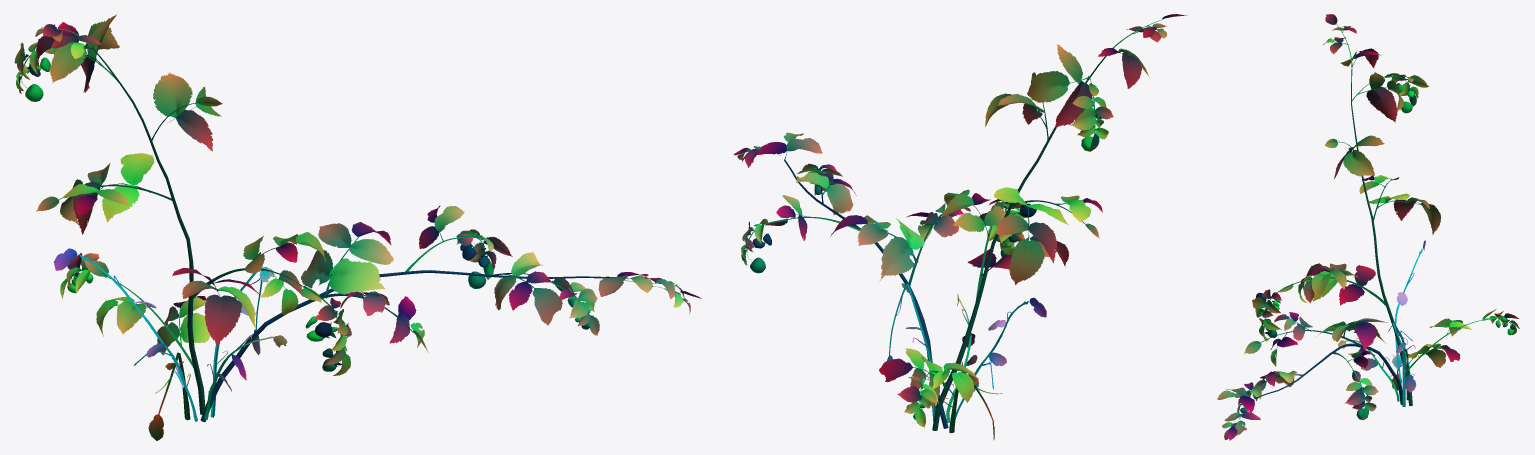
The model's file is Raspberry_wf0oefeja_Raw_wf0oefeja_VarG_LOD0.fbx.
3 views of the same model, side by side, from view 1: azimuth 30°, elevation 25°; view 2: azimuth 150°, elevation 25°; view 3: azimuth 270°, elevation 25° (orthographic). The views are drawn at different scales.
Visible parts, largest first — view 1: _ki17_VarG_High; view 2: _ki17_VarG_High; view 3: _ki17_VarG_High.
Boxes of the visible parts, x1,y1,x2,y2 form: _ki17_VarG_High: (14, 14, 701, 440); _ki17_VarG_High: (733, 14, 1187, 440); _ki17_VarG_High: (1217, 14, 1519, 440).
Bounding box in the file's own units: 75.24 × 59.63 × 50.52.
